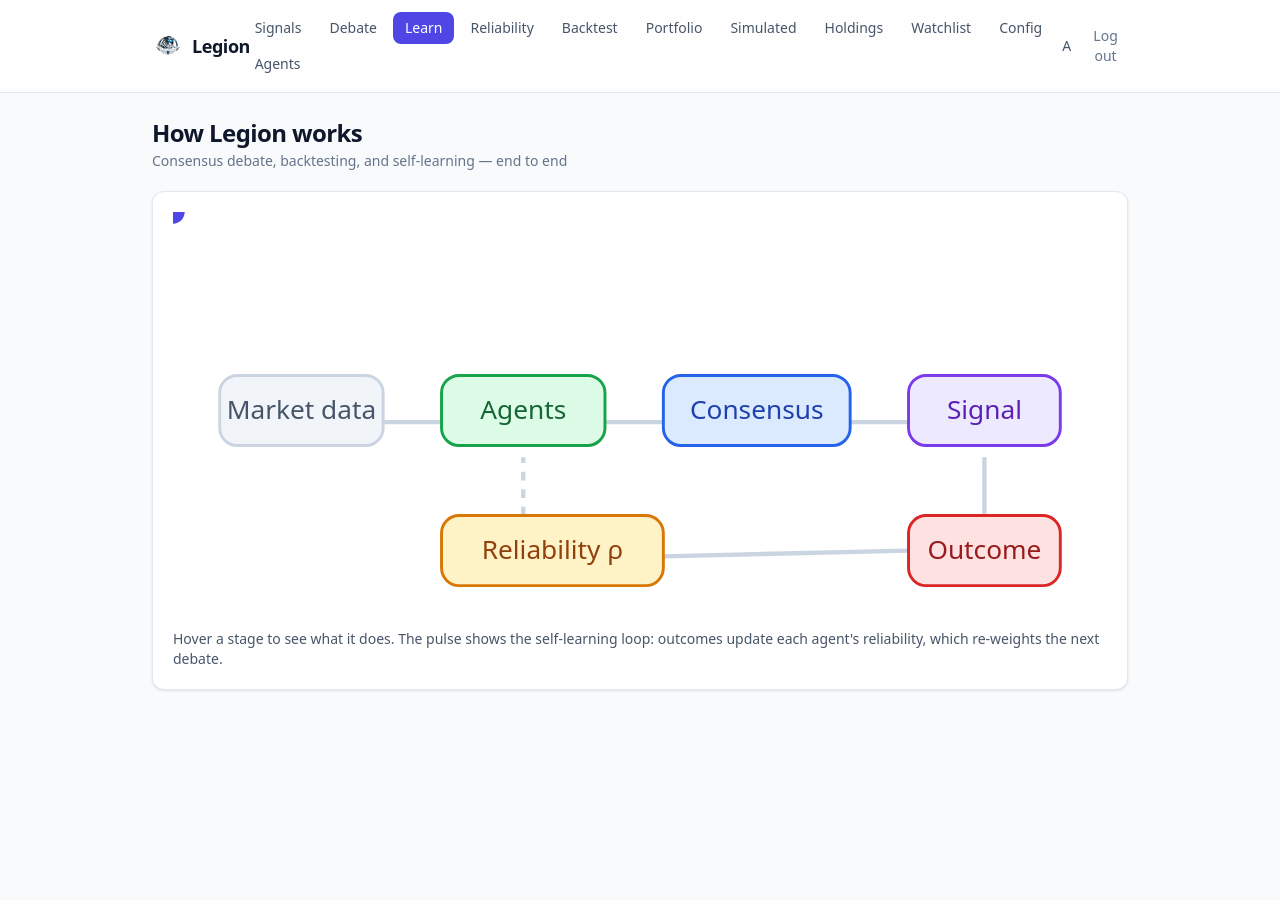
Test case: App shell + routing › navigates to the Portfolio page when its nav link is clicked
Click the link "Portfolio" at (674, 28), box [646,18,702,37]
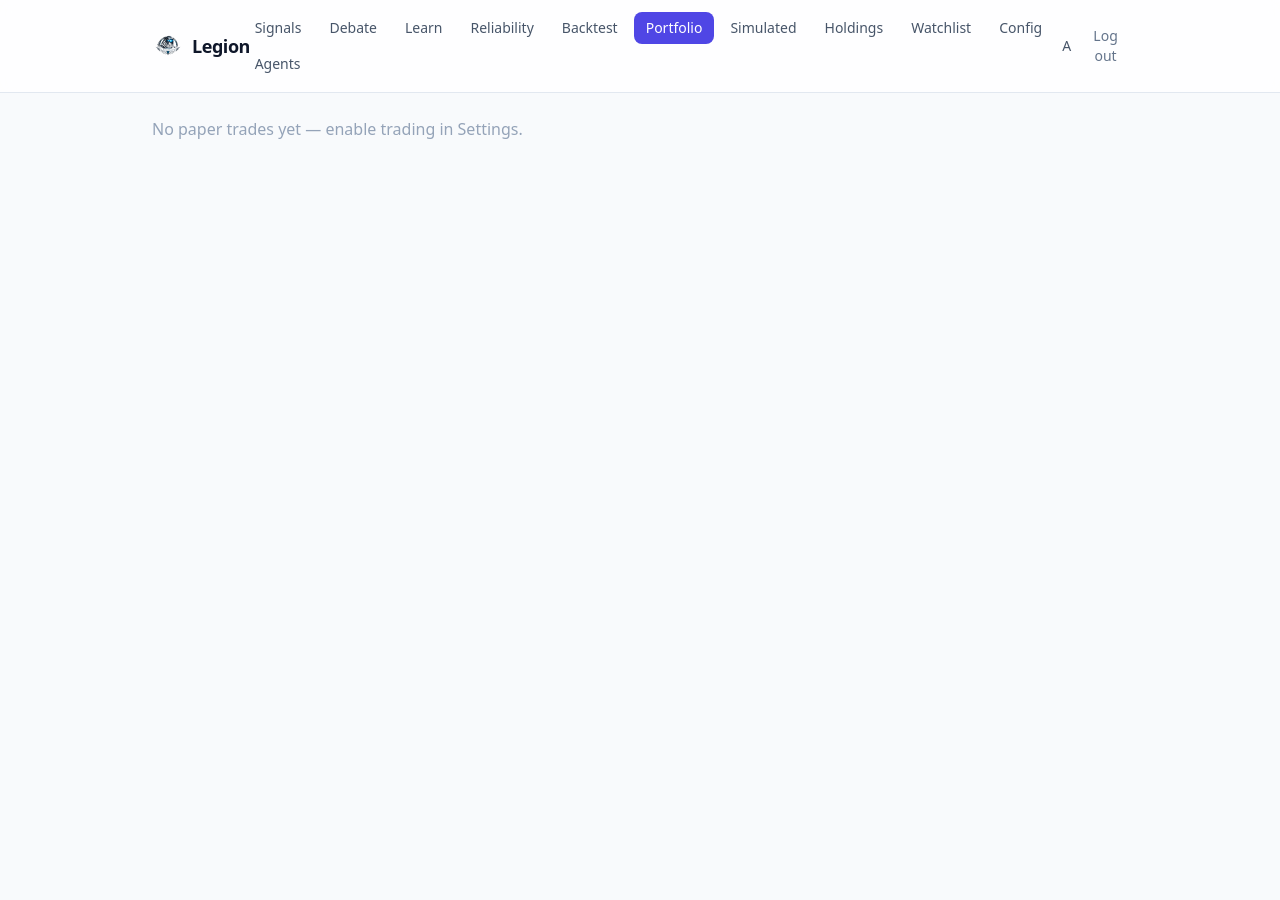
Check: the text "No paper trades yet — enable trading in Settings." is shown, box [152,118,523,140]
